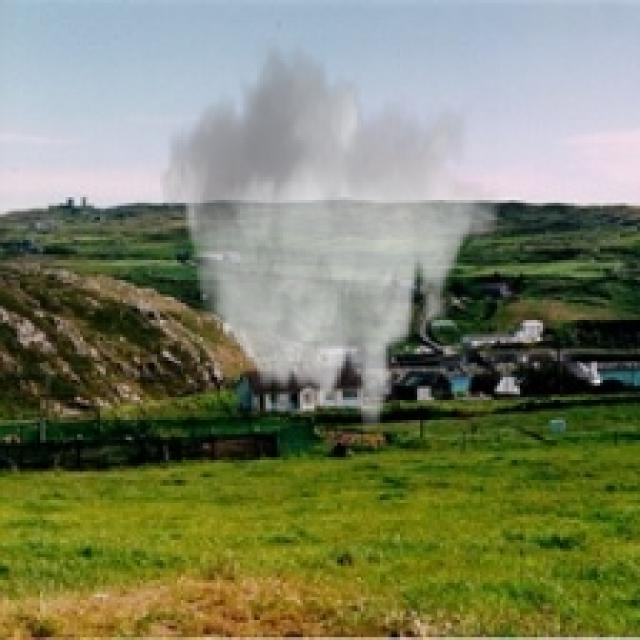smoke: (157, 37, 500, 434)
